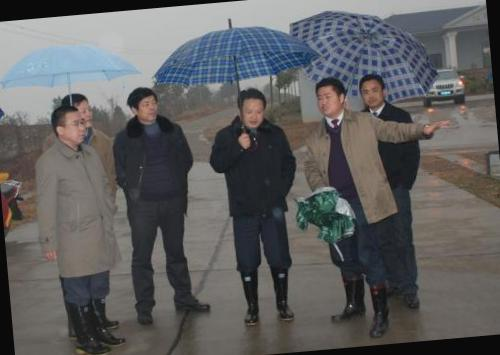no_helmet: (48, 98, 89, 149), (234, 83, 271, 132), (309, 74, 348, 120), (124, 82, 163, 125), (356, 70, 390, 110), (62, 87, 94, 126)
